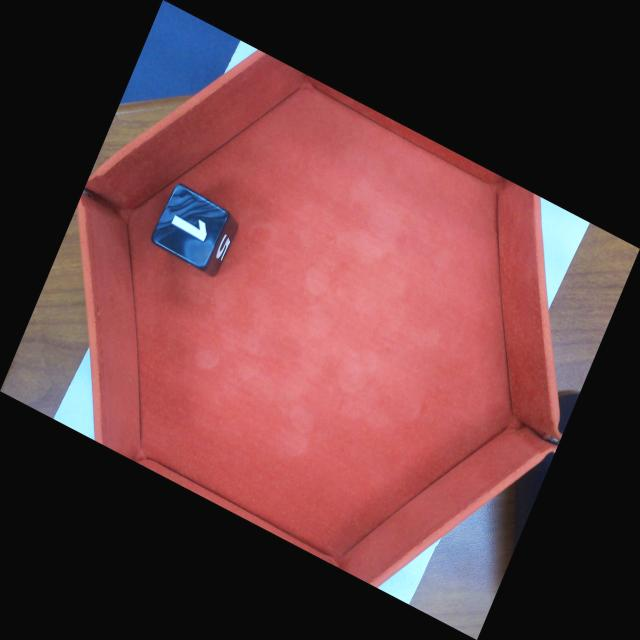dice: (150, 181, 230, 271)
